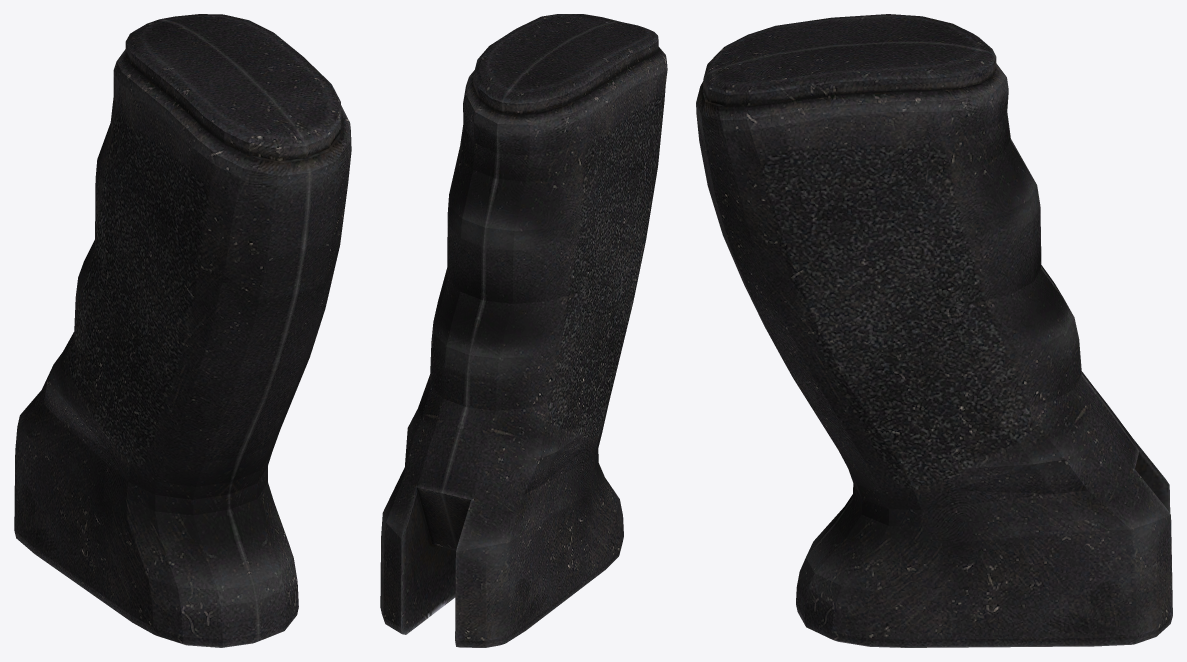
3 renders of one model, left to right at view 1: azimuth 30°, elevation 25°; view 2: azimuth 150°, elevation 25°; view 3: azimuth 270°, elevation 25°, orthographic. The views are drawn at different scales.
Visible parts, largest first — view 1: TW_5addc7db5acfc4001669f279_PZ_Import; view 2: TW_5addc7db5acfc4001669f279_PZ_Import; view 3: TW_5addc7db5acfc4001669f279_PZ_Import.
Part boxes in pixels (x1=…): TW_5addc7db5acfc4001669f279_PZ_Import: x1=14, y1=14, x2=351, y2=647; TW_5addc7db5acfc4001669f279_PZ_Import: x1=380, y1=14, x2=667, y2=647; TW_5addc7db5acfc4001669f279_PZ_Import: x1=696, y1=14, x2=1172, y2=647.
Bounding box in the file's own units: 0.0178 × 0.0465 × 0.0617.
Materials: 1 (1 with a texture image).
